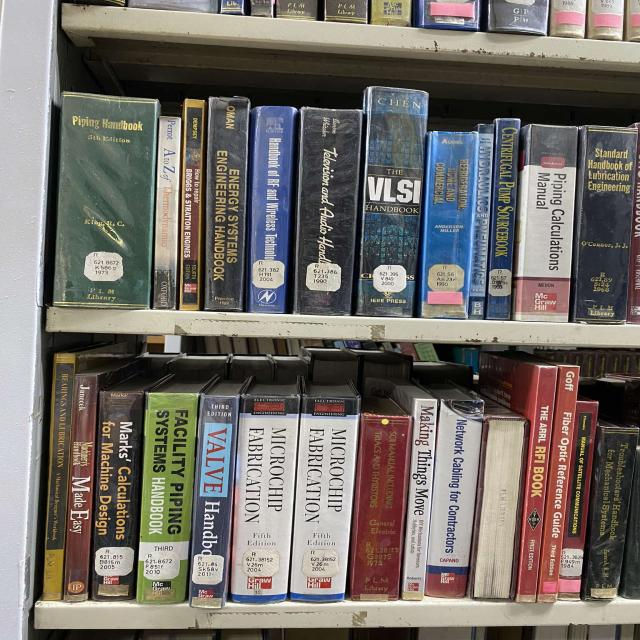book: (50, 90, 157, 309), (355, 86, 429, 317), (292, 396, 361, 602), (230, 396, 299, 602), (294, 107, 362, 316), (136, 393, 198, 604), (574, 126, 638, 324), (517, 124, 579, 321), (424, 398, 484, 597), (469, 416, 531, 602), (90, 391, 143, 600), (535, 367, 580, 603), (353, 415, 410, 601), (190, 396, 239, 607), (247, 107, 297, 313), (420, 131, 474, 319), (585, 428, 640, 600), (518, 368, 558, 603), (204, 97, 247, 312), (43, 352, 76, 599), (558, 401, 598, 600), (65, 374, 97, 602), (485, 117, 520, 320), (403, 400, 436, 600), (179, 99, 206, 310), (152, 117, 179, 310), (469, 123, 494, 319)
